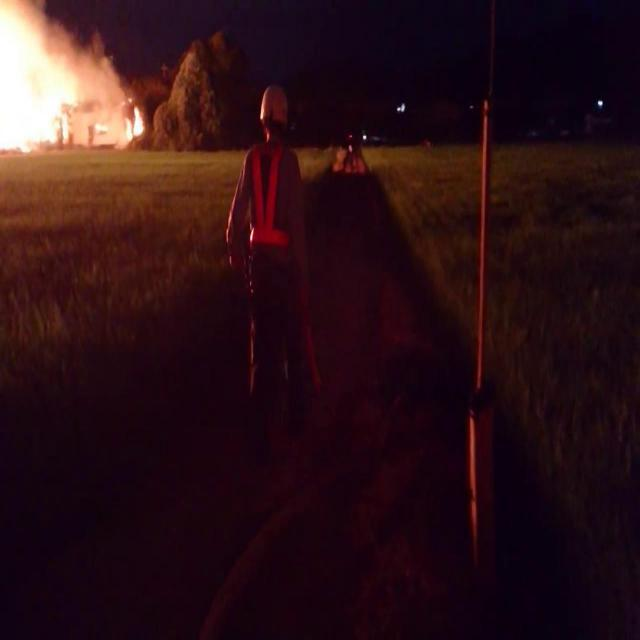Fire: (0, 8, 81, 158), (125, 100, 143, 138)
